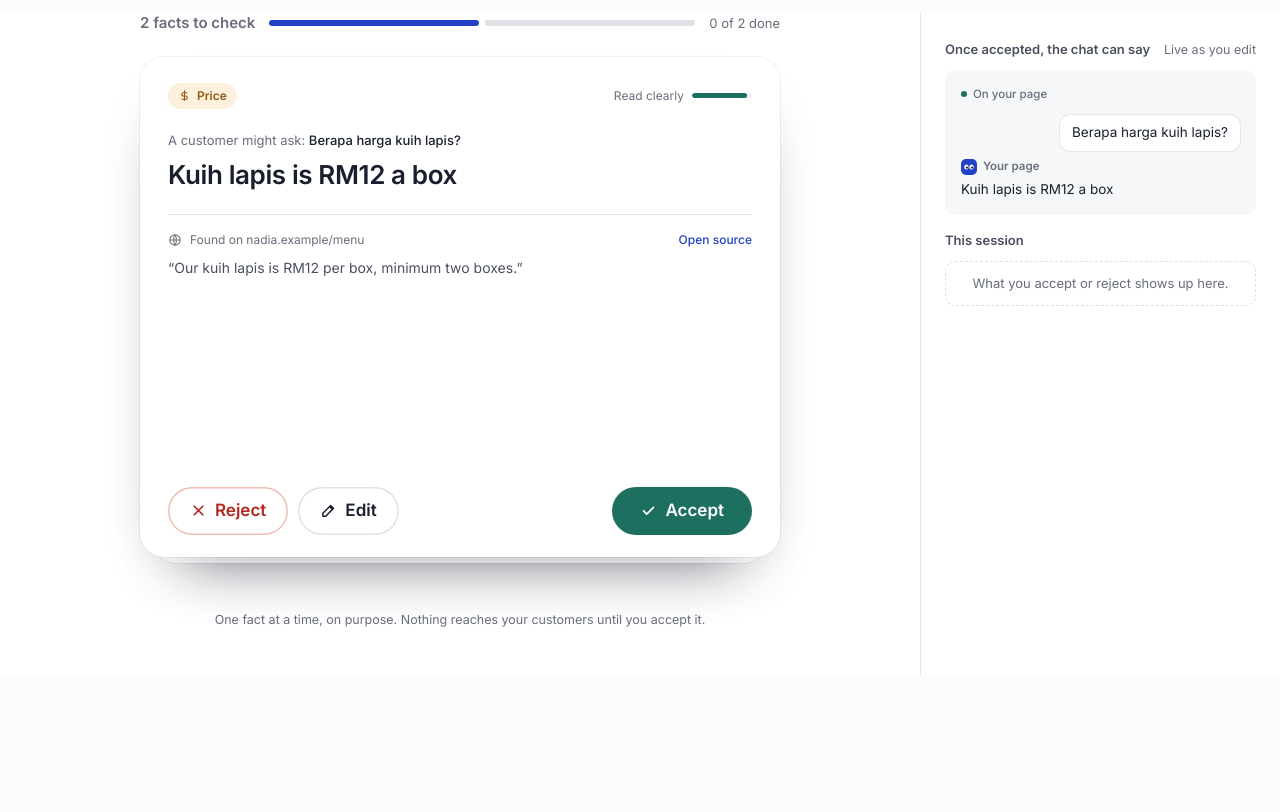
Test: ReviewQueue › keeps a decision in this session, and the card stays on failure
Check: the text "What you accept or reject shows up here." is shown, box [945,261,1256,306]
Click the button "Reject": (228, 510) [168,486,288,534]
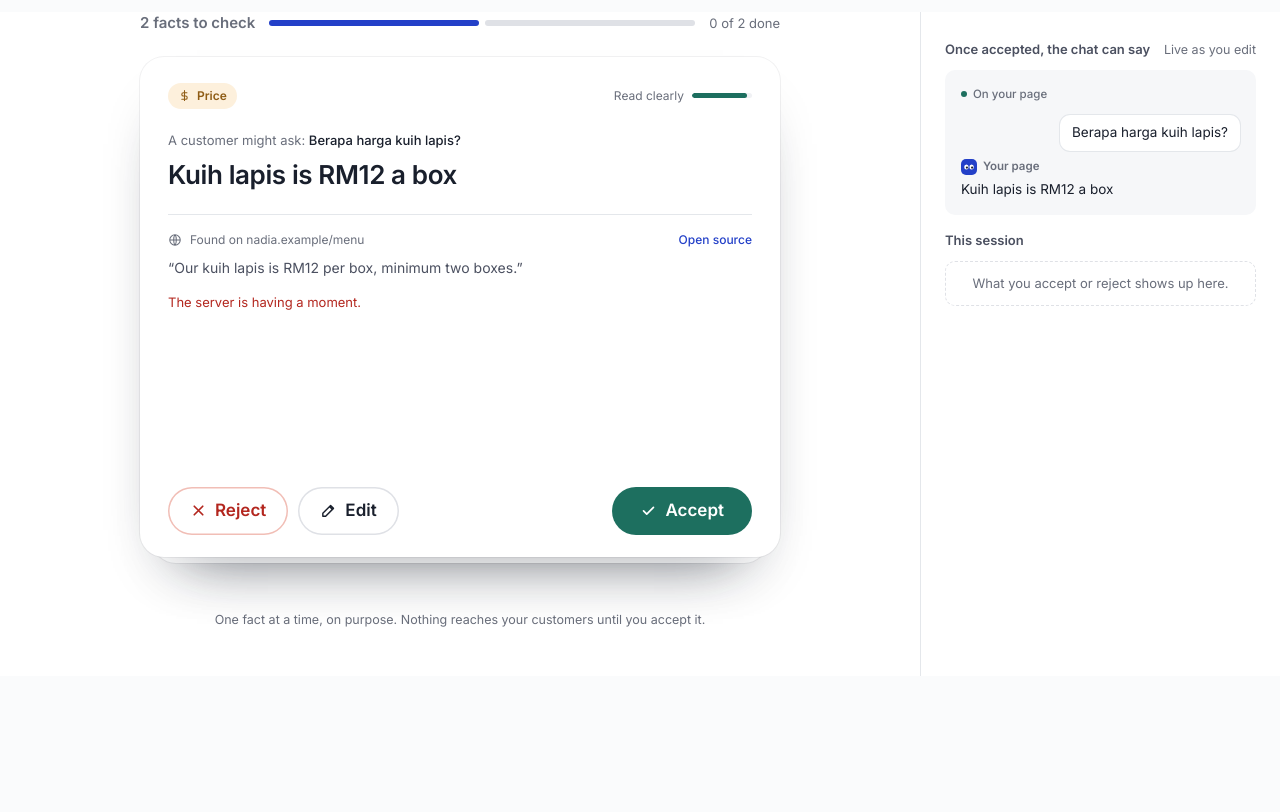
Check: the message reads "The server is having a moment.", box [168,294,361,310]
Click the button "Accept": (682, 510) [612,486,752,534]
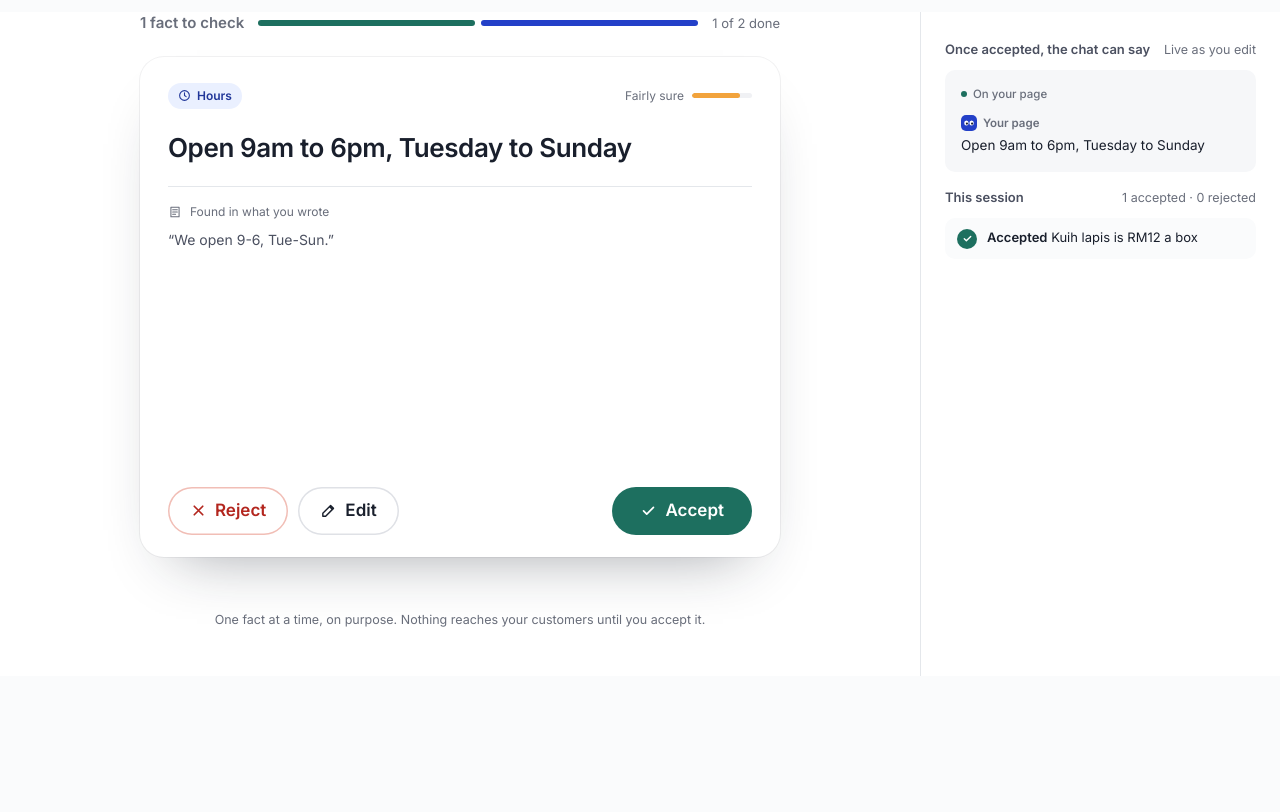
Check: the text "1 accepted · 0 rejected" is shown, box [1122,189,1256,208]
Check: the list item reads "Accepted Kuih lapis is RM12 a box", box [945,218,1256,259]
